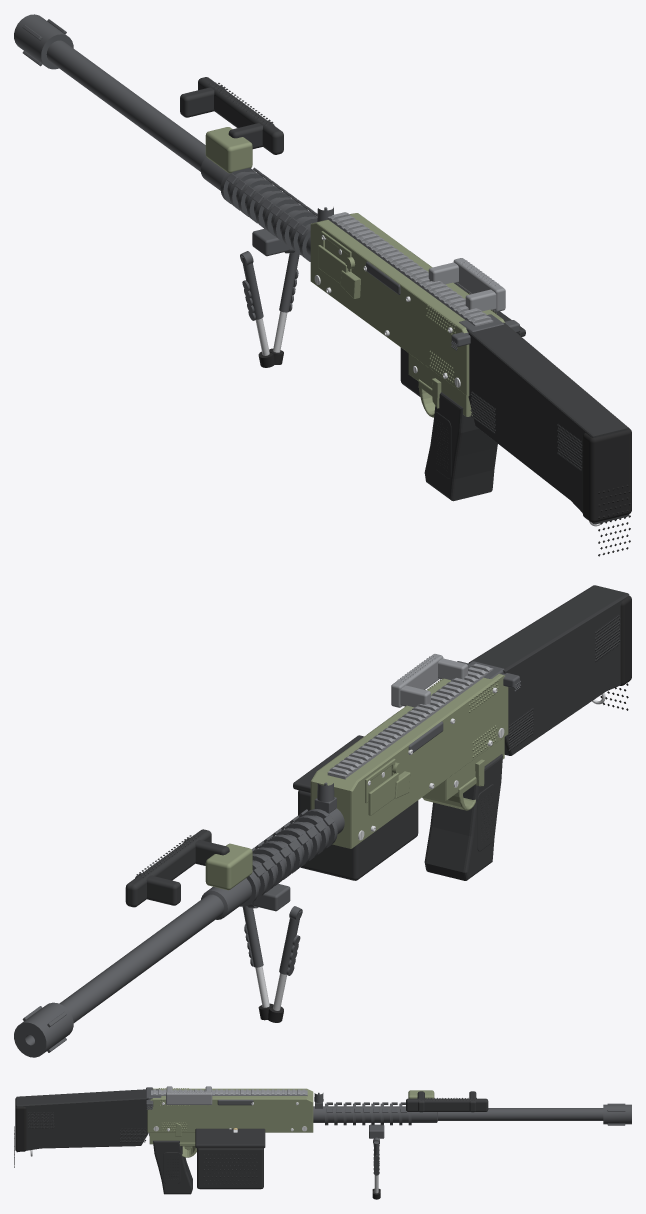
File: gpmg.glb
3 renders of one model, top to bottom at view 1: azimuth 30°, elevation 25°; view 2: azimuth 150°, elevation 25°; view 3: azimuth 270°, elevation 25°, orthographic. The views are drawn at different scales.
Visible parts, largest first — view 1: Receiver; view 2: Receiver, Magazine; view 3: Receiver, Magazine.
Boxes of the visible parts, box(x1,y1,x2,y2) form: Receiver: box(14, 14, 631, 556); Receiver: box(14, 585, 631, 1057); Magazine: box(293, 735, 418, 880); Receiver: box(14, 1086, 631, 1199); Magazine: box(195, 1128, 265, 1189).
Bounding box in the file's own units: 0.127 × 0.2224 × 1.1.
